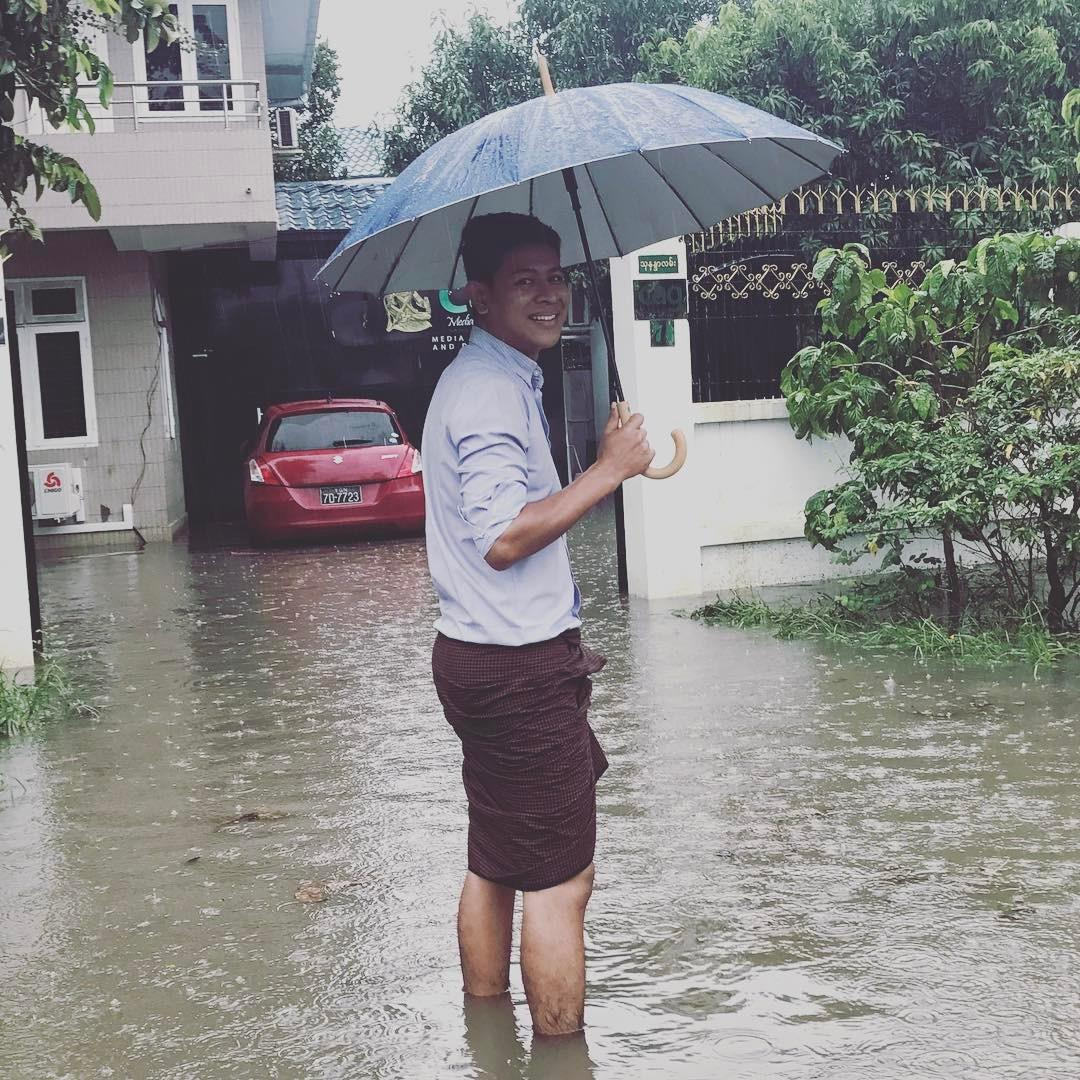victim: (418, 208, 660, 1056)
